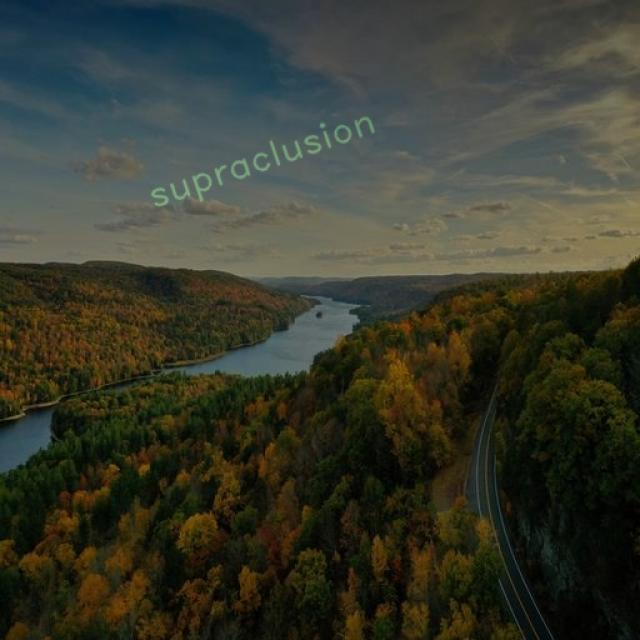watermark: (143, 102, 377, 214)
